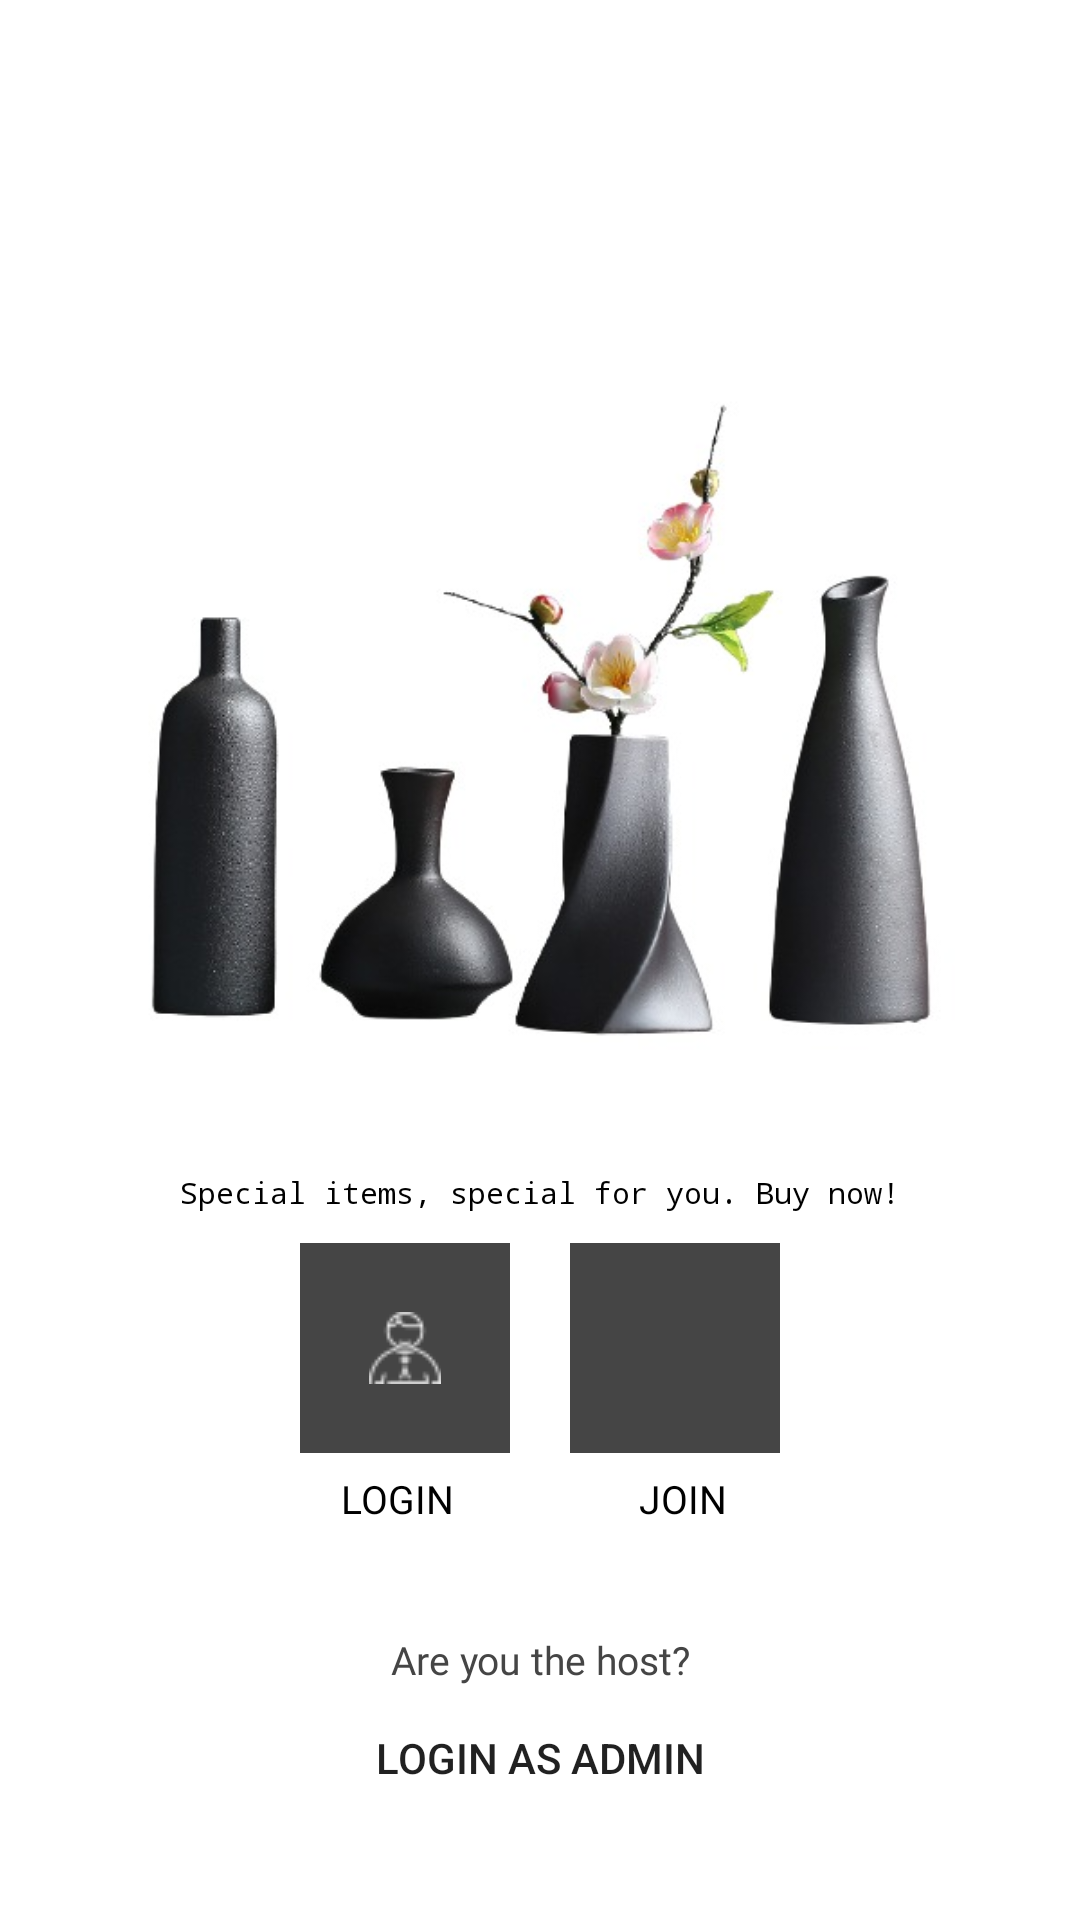

Where to tap for icons on this 1080*1920 app screen, as (x,y):
user: (405,1348)
